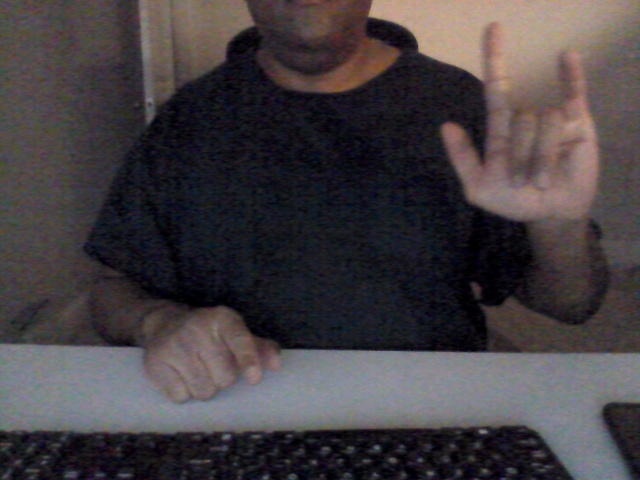i_love_you: (438, 15, 604, 226)
